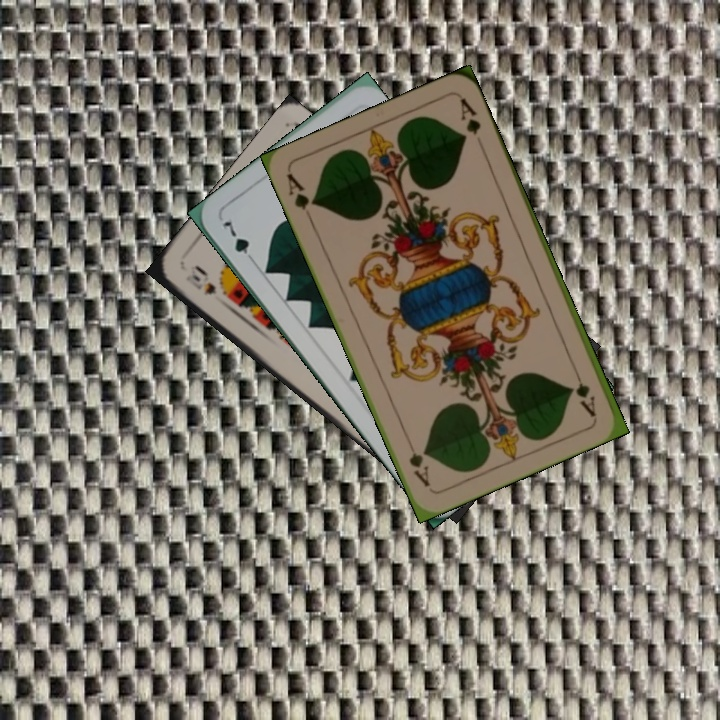G7: (218, 217, 259, 267)
GA: (282, 169, 318, 226), (568, 362, 599, 420)
S10: (181, 270, 220, 299)
